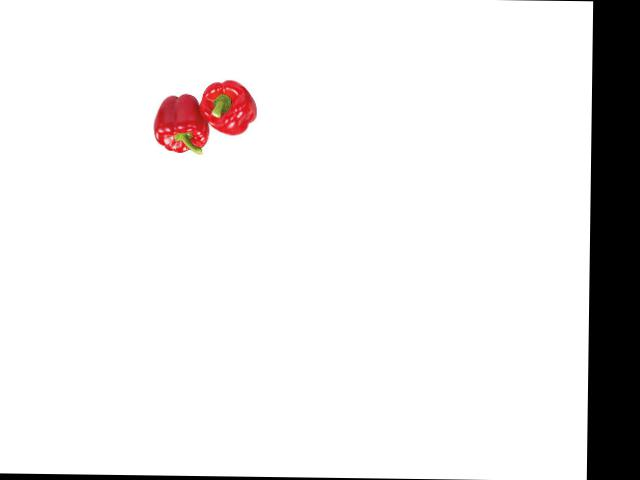bell_pepper: (151, 89, 211, 157)
